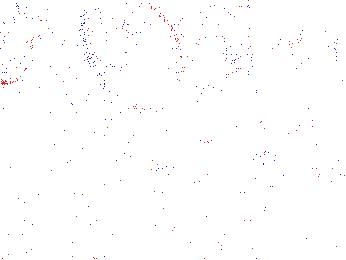moon jellyfish: (83, 1, 182, 110), (257, 126, 346, 217), (185, 1, 251, 91), (285, 37, 346, 101), (1, 1, 34, 86)
